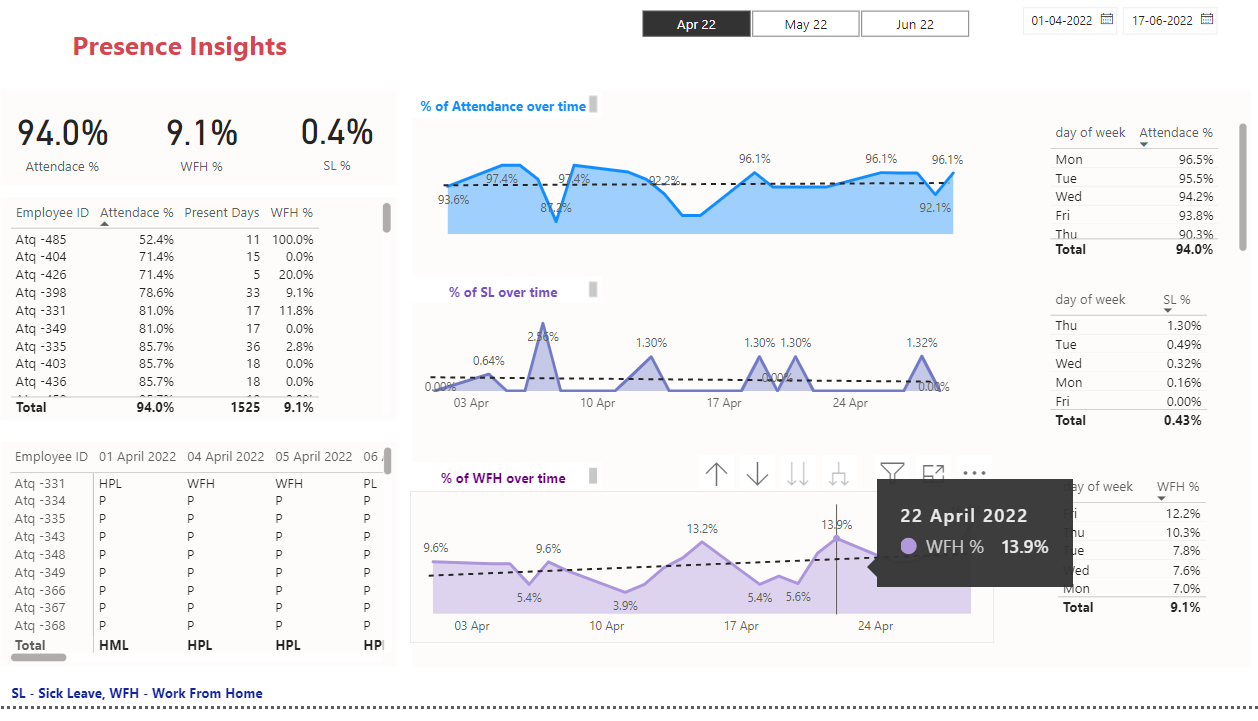

This screenshot's page, from the dashboard's own definition file:
{"tool":"powerbi","page":{"name":"Presence Insights","canvas":[1280,720],"ordinal":0},"visuals":[{"type":"textbox","box":[7.8,205.6,399.9,225.5],"z":0},{"type":"textbox","box":[7.8,453.3,399.8,227.6],"z":1000},{"type":"textbox","box":[422.3,97.9,848.1,582.3],"z":2000},{"type":"textbox","box":[7.8,98,399.9,95.4],"z":3000},{"type":"tableEx","fields":{"Values":["Final Data.Employee ID","Measures (2).Attendace %","Measures (2).Present Days","Measures (2).WFH %"]},"box":[12.6,205.2,394.9,225.7],"z":4000},{"type":"slicer","fields":{"Values":["Final Data.Date"]},"box":[1027.3,5.2,252.7,46.3],"z":5000},{"type":"slicer","fields":{"Values":["Final Data.MMM YY"]},"box":[630.4,10.5,379.5,35.8],"z":6000},{"type":"areaChart","fields":{"Category":["Final Data.MMM YY","Final Data.Date"],"Y":["Measures (2).WFH %"]},"box":[420.7,502.3,589,153.5],"z":7000},{"type":"areaChart","fields":{"Category":["Final Data.WeekNo","Final Data.Date"],"Y":["Measures (2).Attendace %"]},"box":[444.1,144.9,540.4,103.2],"z":8000},{"type":"card","fields":{"Values":["Measures (2).Attendace %"]},"box":[7.8,98,124,96.3],"z":9000},{"type":"card","fields":{"Values":["Measures (2).WFH %"]},"box":[141.4,98,138.8,96.3],"z":10000},{"type":"areaChart","fields":{"Category":["Final Data.MMM YY","Final Data.Date"],"Y":["Measures (2).SL %"]},"box":[422.5,307.1,556,124],"z":11000},{"type":"card","fields":{"Values":["Measures (2).SL %"]},"box":[286.3,97.2,121.4,96.3],"z":13000},{"type":"textbox","box":[7.6,28.8,354.3,53],"z":14000},{"type":"textbox","box":[422.4,98.2,192.5,27.5],"z":15000},{"type":"textbox","box":[422.5,286.3,192.6,26.9],"z":16000},{"type":"textbox","box":[422.1,473.7,192.6,27.2],"z":17000},{"type":"pivotTable","fields":{"Rows":["Final Data.Employee ID"],"Columns":["Final Data.Date"],"Values":["Min(Final Data.Value)"]},"box":[11.7,453.3,395.9,227.6],"z":18000},{"type":"textbox","box":[13.6,691.6,289.8,28.2],"z":19000},{"type":"tableEx","fields":{"Values":["Final Data.day of week","Measures (2).Attendace %"]},"box":[1060.9,125.8,209.9,145.7],"z":20000},{"type":"tableEx","fields":{"Values":["Final Data.day of week","Measures (2).SL %"]},"box":[1060.9,294.1,191.7,167.4],"z":21000},{"type":"tableEx","fields":{"Values":["Final Data.day of week","Measures (2).WFH %"]},"box":[1068.7,483.2,170,167.4],"z":22000}]}

Visuals, with their boxes in screenshot pixels (x1, y1, x2, y2), scaled from the page's 1280x720 canvas onto the 1258x721 screenshot:
textbox: (x1=8, y1=206, x2=401, y2=432)
textbox: (x1=8, y1=454, x2=401, y2=682)
textbox: (x1=415, y1=98, x2=1249, y2=681)
textbox: (x1=8, y1=98, x2=401, y2=194)
tableEx - Final Data.Employee ID x Measures (2).Attendace %: (x1=12, y1=205, x2=400, y2=431)
slicer - Final Data.Date: (x1=1010, y1=5, x2=1257, y2=52)
slicer - Final Data.MMM YY: (x1=620, y1=11, x2=993, y2=46)
areaChart - Final Data.MMM YY x Final Data.Date: (x1=413, y1=503, x2=992, y2=657)
areaChart - Final Data.WeekNo x Final Data.Date: (x1=436, y1=145, x2=968, y2=248)
card - Measures (2).Attendace %: (x1=8, y1=98, x2=130, y2=195)
card - Measures (2).WFH %: (x1=139, y1=98, x2=275, y2=195)
areaChart - Final Data.MMM YY x Final Data.Date: (x1=415, y1=308, x2=962, y2=432)
card - Measures (2).SL %: (x1=281, y1=97, x2=401, y2=194)
textbox: (x1=7, y1=29, x2=356, y2=82)
textbox: (x1=415, y1=98, x2=604, y2=126)
textbox: (x1=415, y1=287, x2=605, y2=314)
textbox: (x1=415, y1=474, x2=604, y2=502)
pivotTable - Final Data.Employee ID x Final Data.Date: (x1=11, y1=454, x2=401, y2=682)
textbox: (x1=13, y1=693, x2=298, y2=720)
tableEx - Final Data.day of week x Measures (2).Attendace %: (x1=1043, y1=126, x2=1249, y2=272)
tableEx - Final Data.day of week x Measures (2).SL %: (x1=1043, y1=295, x2=1231, y2=462)
tableEx - Final Data.day of week x Measures (2).WFH %: (x1=1050, y1=484, x2=1217, y2=652)
